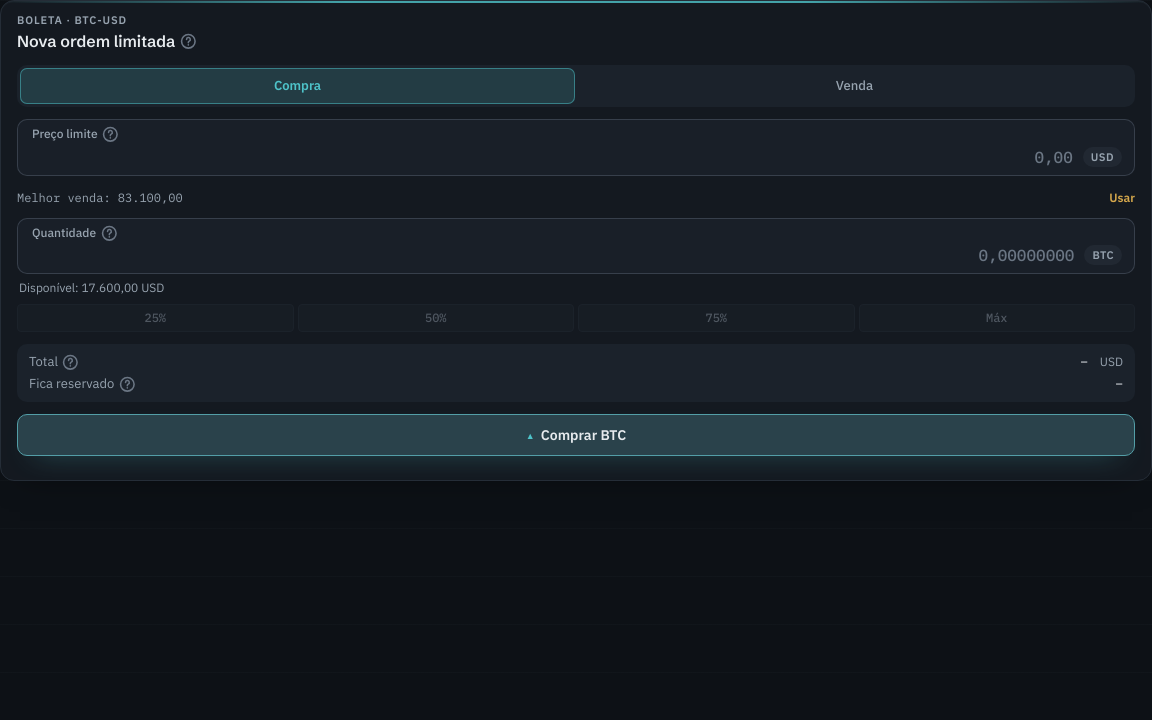
Test: Order ticket › Should keep an order that exceeds the free balance from reaching the confirmation
Step 1. Type "83000,00" into the field labelled "Preço limite" → [552, 157], box [32,145,1073,169]
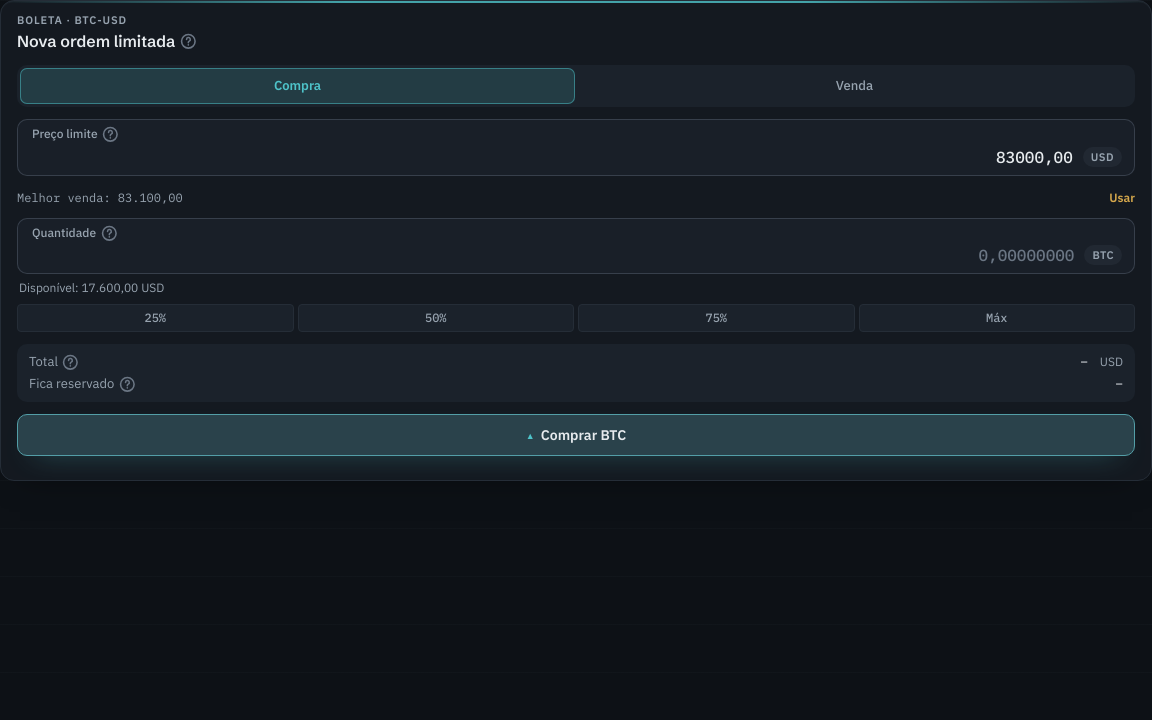
Step 2. Type "0,5" into the field labelled "Quantidade" → [553, 255], box [32,243,1074,267]
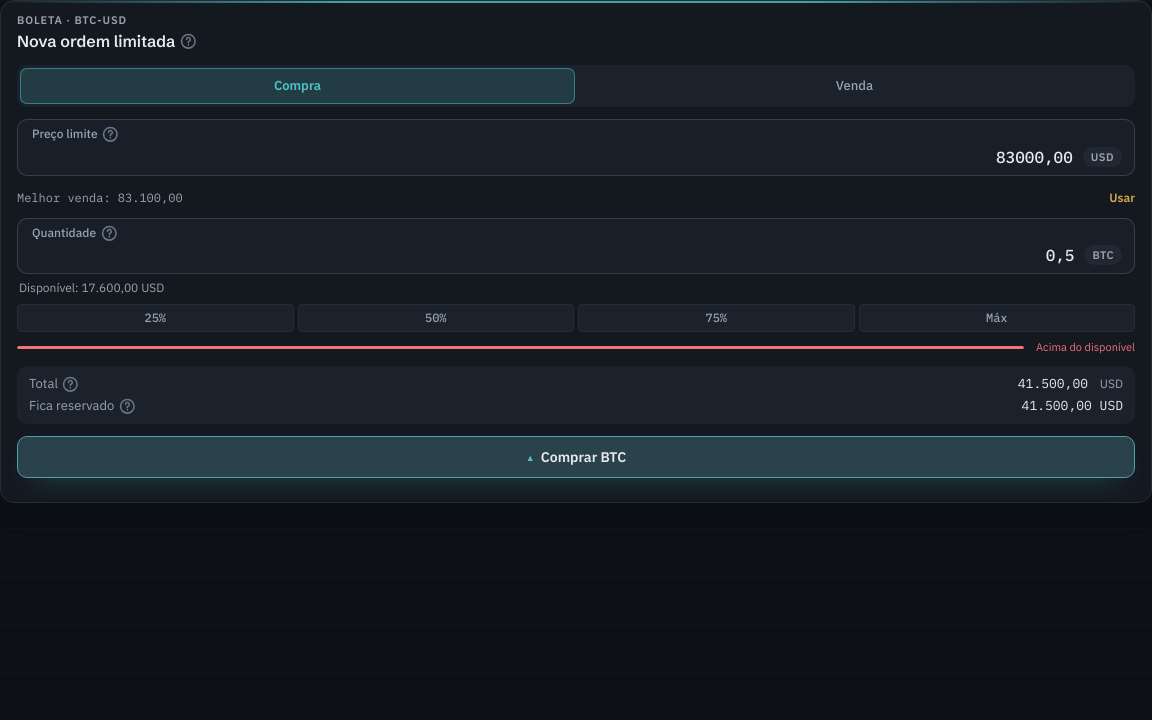
Step 3. Click the button "▲ Comprar BTC" → [576, 457], box [17,436,1135,478]
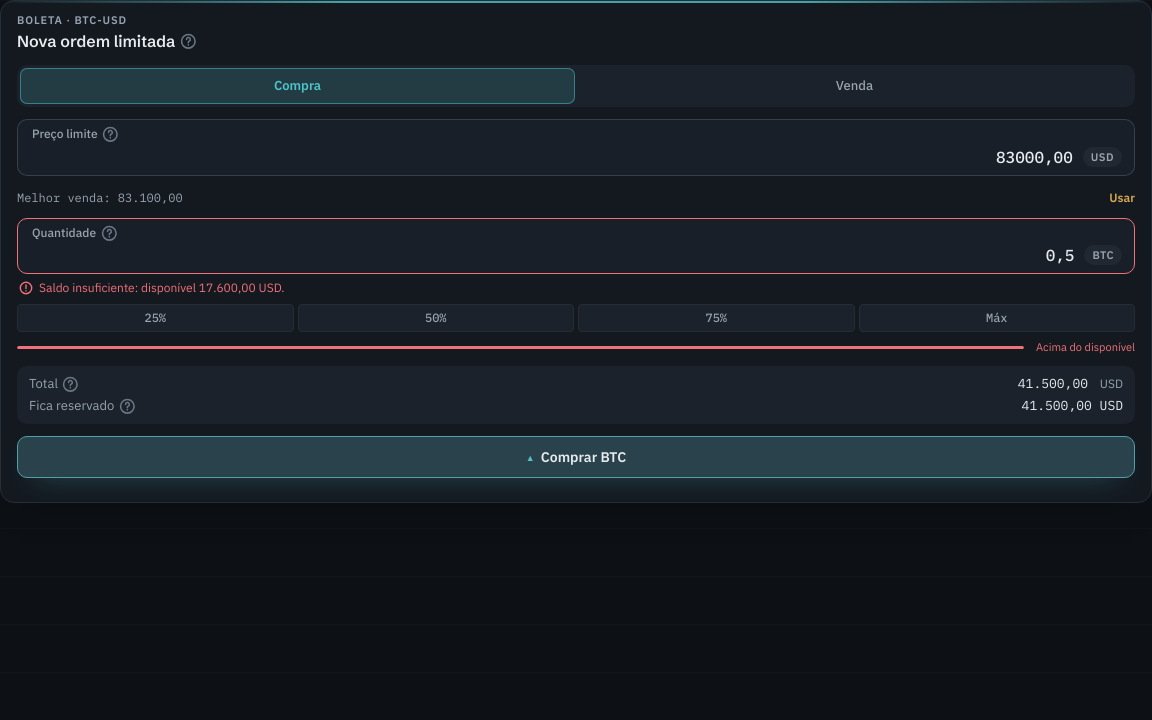
Now the text "Saldo insuficiente: disponível 17.600,00 USD." is shown, box [19,280,285,295]
